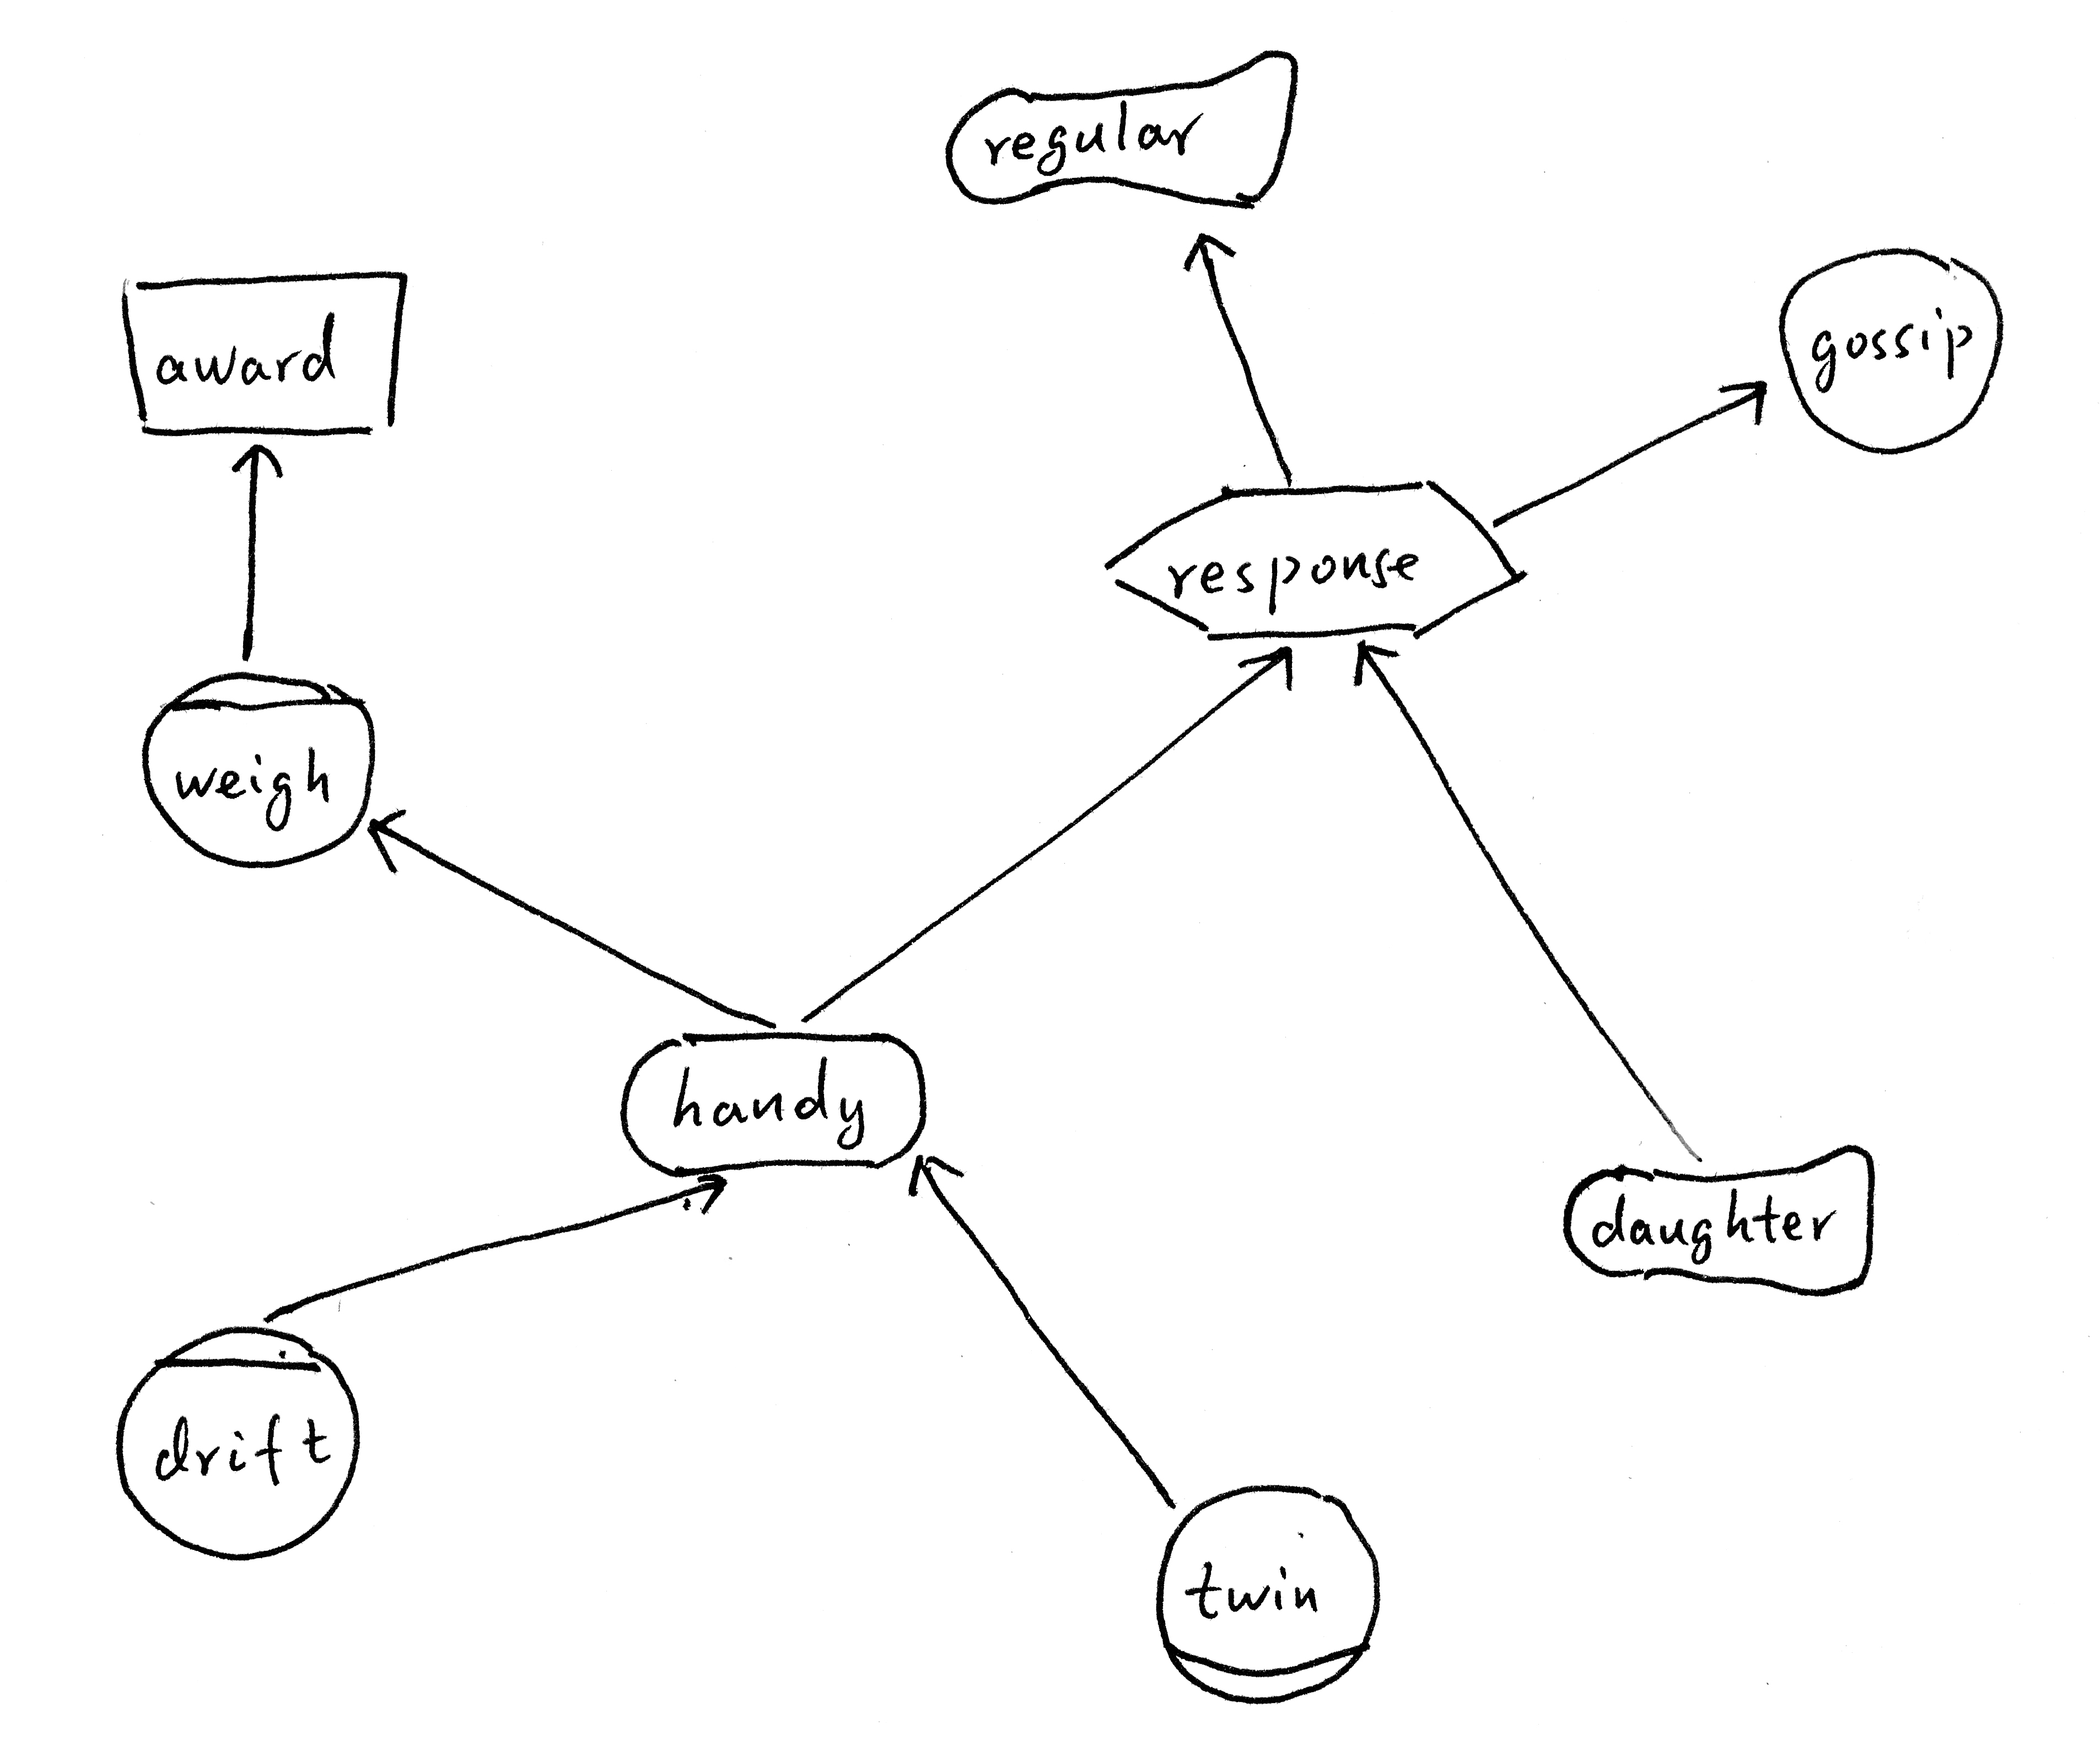actor: (1767, 225, 2011, 464)
agent: (96, 1308, 382, 1577), (122, 649, 399, 881)
arrow: (1340, 624, 1423, 708), (1162, 216, 1259, 284), (347, 794, 422, 881), (1706, 358, 1783, 441), (665, 1156, 747, 1228), (1223, 624, 1301, 698), (890, 1136, 965, 1207), (213, 436, 297, 485)
goal: (609, 1015, 954, 1197)
quality: (935, 33, 1315, 222), (1542, 1127, 1906, 1312)
resource: (94, 242, 429, 454)
role: (1141, 1463, 1399, 1713)
task: (1087, 474, 1545, 656)
